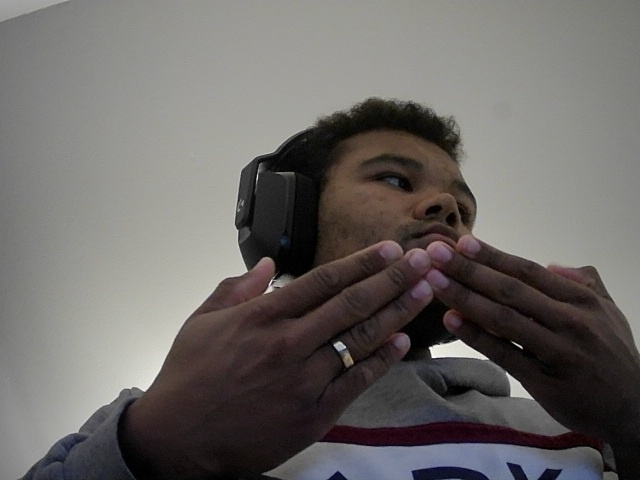ThankYou: (108, 227, 640, 480)
